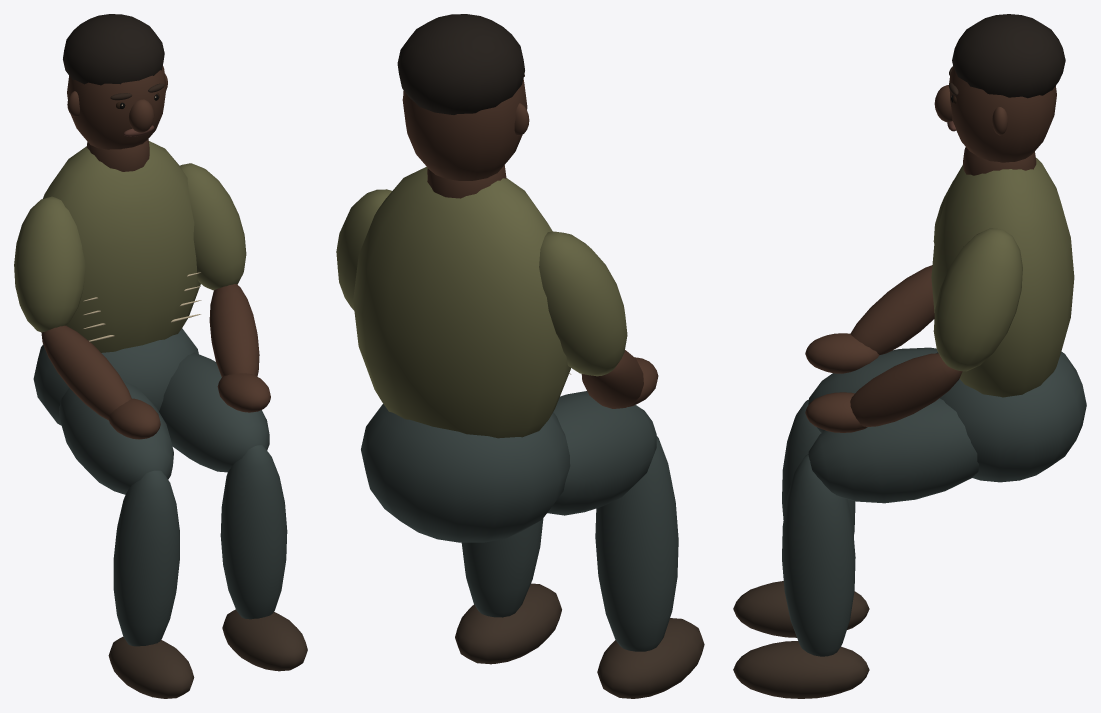
File: resident-2.glb
The picture shows the model from 3 angles, left to right: view 1: azimuth 30°, elevation 25°; view 2: azimuth 150°, elevation 25°; view 3: azimuth 270°, elevation 25°; orthographic projection. The views are drawn at different scales.
Parts seen in each view (by area): view 1: body; view 2: body; view 3: body.
Boxes of the visible parts, x1,y1,x2,y2 form: body: [14, 14, 307, 698]; body: [336, 14, 704, 698]; body: [733, 14, 1086, 698].
Bounding box in the file's own units: 0.5179 × 1.31 × 0.653.
